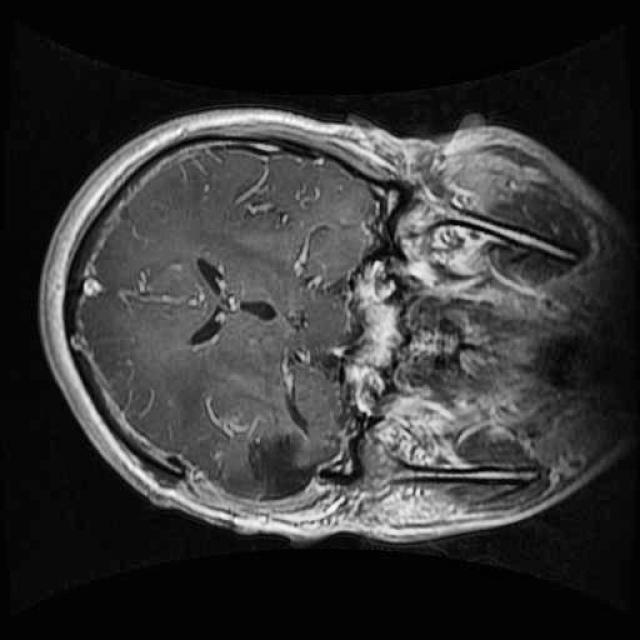Non-Tumor: (226, 412, 326, 518)
